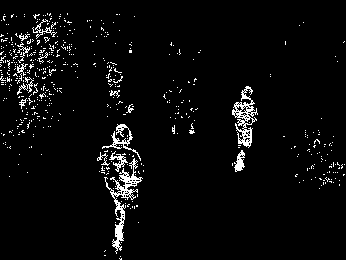person: (96, 123, 144, 258), (231, 84, 259, 173)
